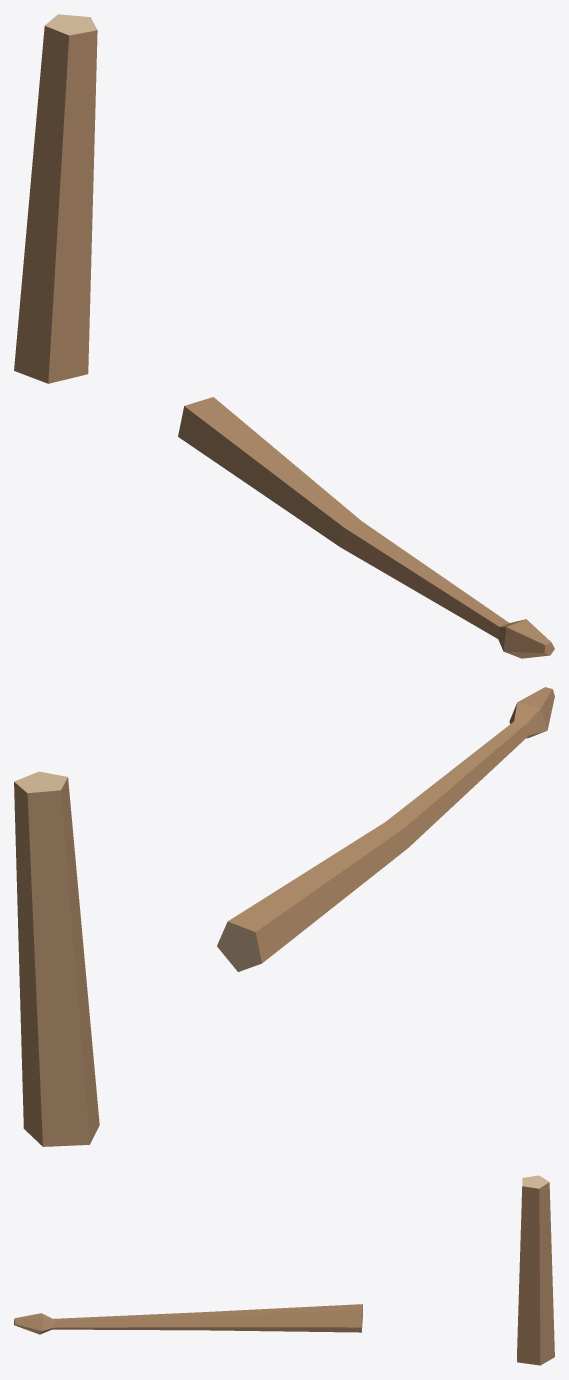
File: Palm_Tree_NoLeaves_crk_m_BT_01.fbx
3 renders of one model, top to bottom at view 1: azimuth 30°, elevation 25°; view 2: azimuth 150°, elevation 25°; view 3: azimuth 270°, elevation 25°, orthographic. The views are drawn at different scales.
Visible parts, largest first — view 1: Palm_Tree_NoLeaves_crk_m_BT_01; view 2: Palm_Tree_NoLeaves_crk_m_BT_01; view 3: Palm_Tree_NoLeaves_crk_m_BT_01.
Boxes of the visible parts, x1=… form: Palm_Tree_NoLeaves_crk_m_BT_01: x1=14, y1=14, x2=554, y2=658; Palm_Tree_NoLeaves_crk_m_BT_01: x1=14, y1=687, x2=554, y2=1146; Palm_Tree_NoLeaves_crk_m_BT_01: x1=14, y1=1175, x2=554, y2=1365.
Size of the model in its own units: 53.12 by 221 by 599.
